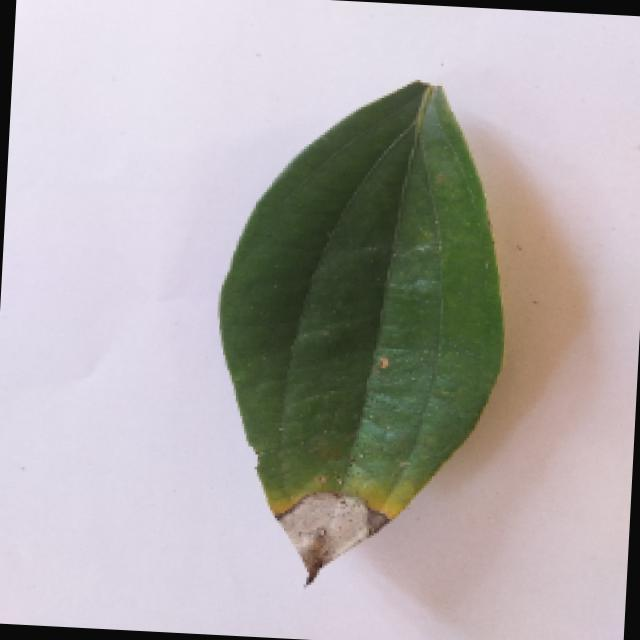footrot: (198, 70, 520, 600)
